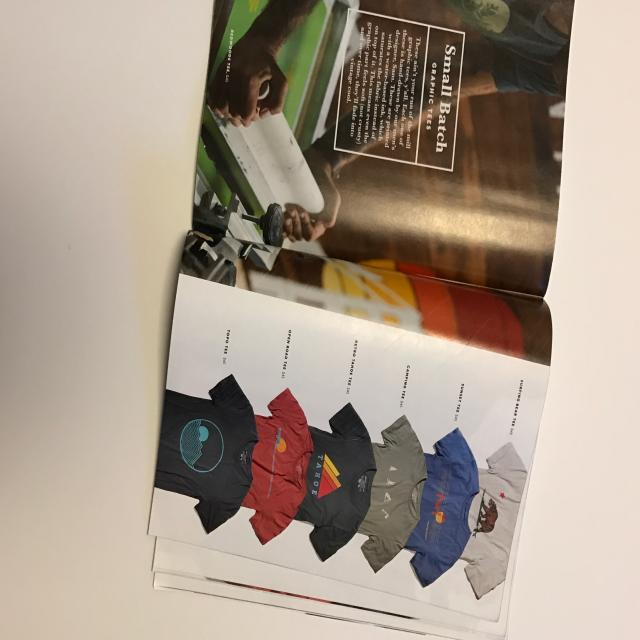paper: (156, 0, 614, 640)
